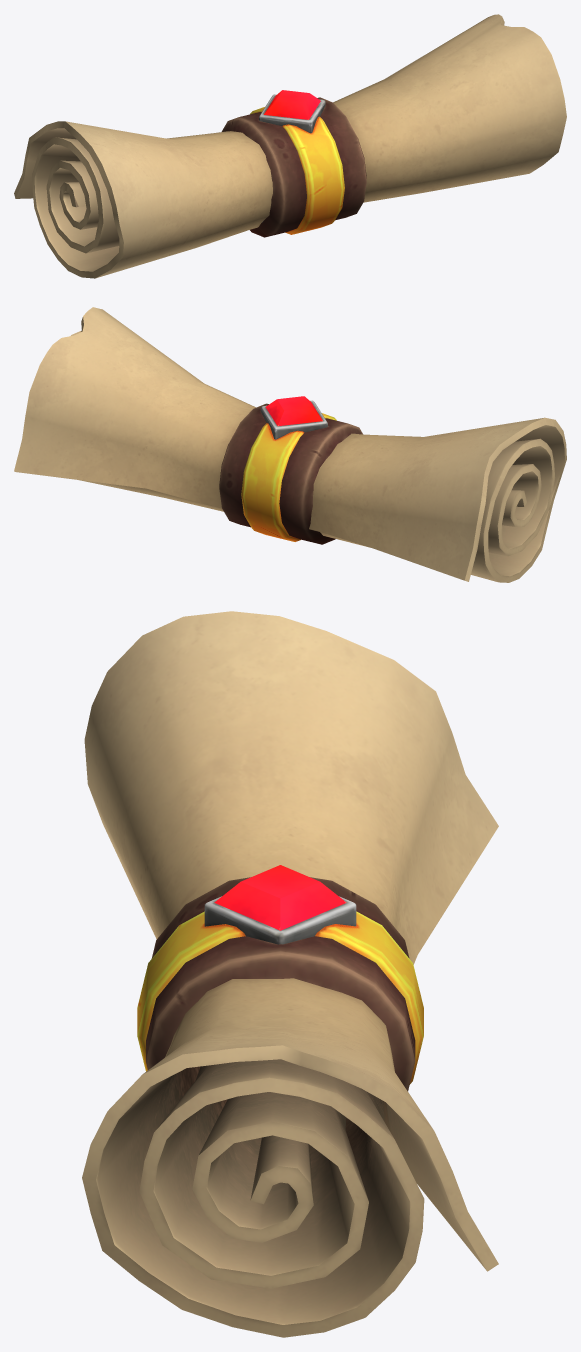
File: SM_Scroll.fbx
The picture shows the model from 3 angles, top to bottom: view 1: azimuth 30°, elevation 25°; view 2: azimuth 150°, elevation 25°; view 3: azimuth 270°, elevation 25°; orthographic projection. The views are drawn at different scales.
Parts seen in each view (by area): view 1: SM_Scroll_LOD0; view 2: SM_Scroll_LOD0; view 3: SM_Scroll_LOD0.
Part boxes in pixels (<box>): SM_Scroll_LOD0: <box>14,14,566,278</box>; SM_Scroll_LOD0: <box>14,307,566,582</box>; SM_Scroll_LOD0: <box>82,611,498,1337</box>.
Size of the model in its own units: 31.98 by 12.73 by 10.42.
Materials: 1 (1 with a texture image).
